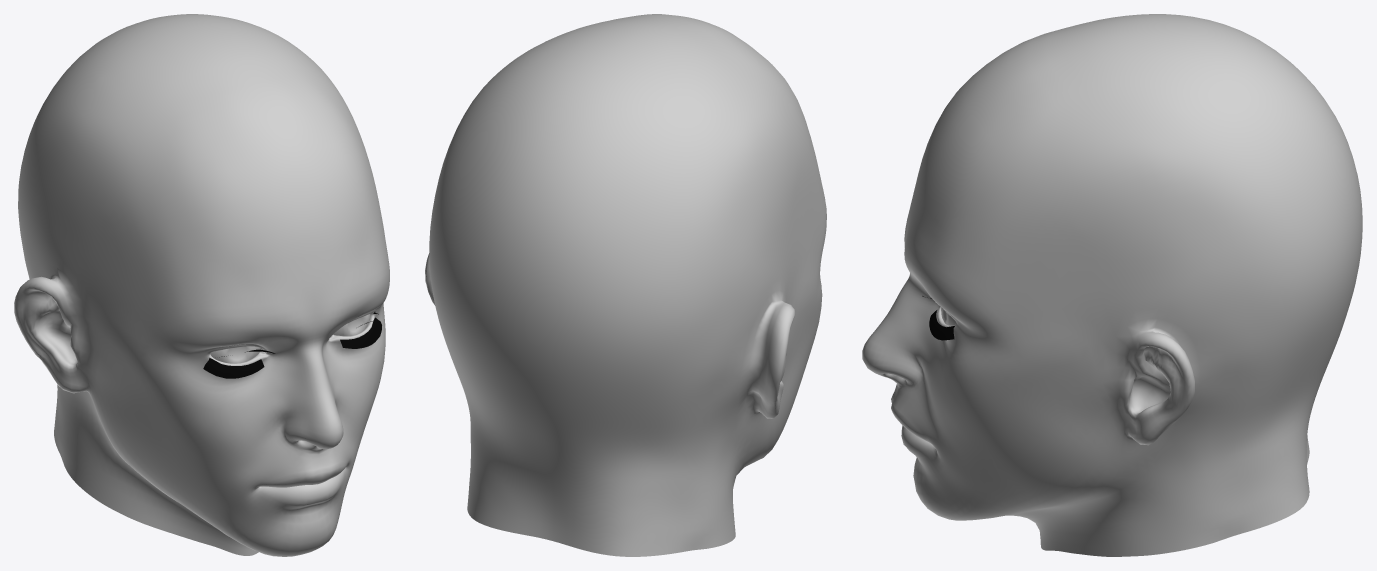
3 views of the same model, side by side, from view 1: azimuth 30°, elevation 25°; view 2: azimuth 150°, elevation 25°; view 3: azimuth 270°, elevation 25° (orthographic). The views are drawn at different scales.
Parts seen in each view (by area): view 1: hair, jiemao, yanjin; view 2: hair; view 3: hair.
Boxes of the visible parts, x1,y1,x2,y2 form: hair: (14, 14, 389, 556); jiemao: (203, 312, 381, 378); yanjin: (210, 314, 370, 363); hair: (425, 14, 826, 556); hair: (862, 14, 1362, 556).
Size of the model in its own units: 16.71 by 22.92 by 20.2.
